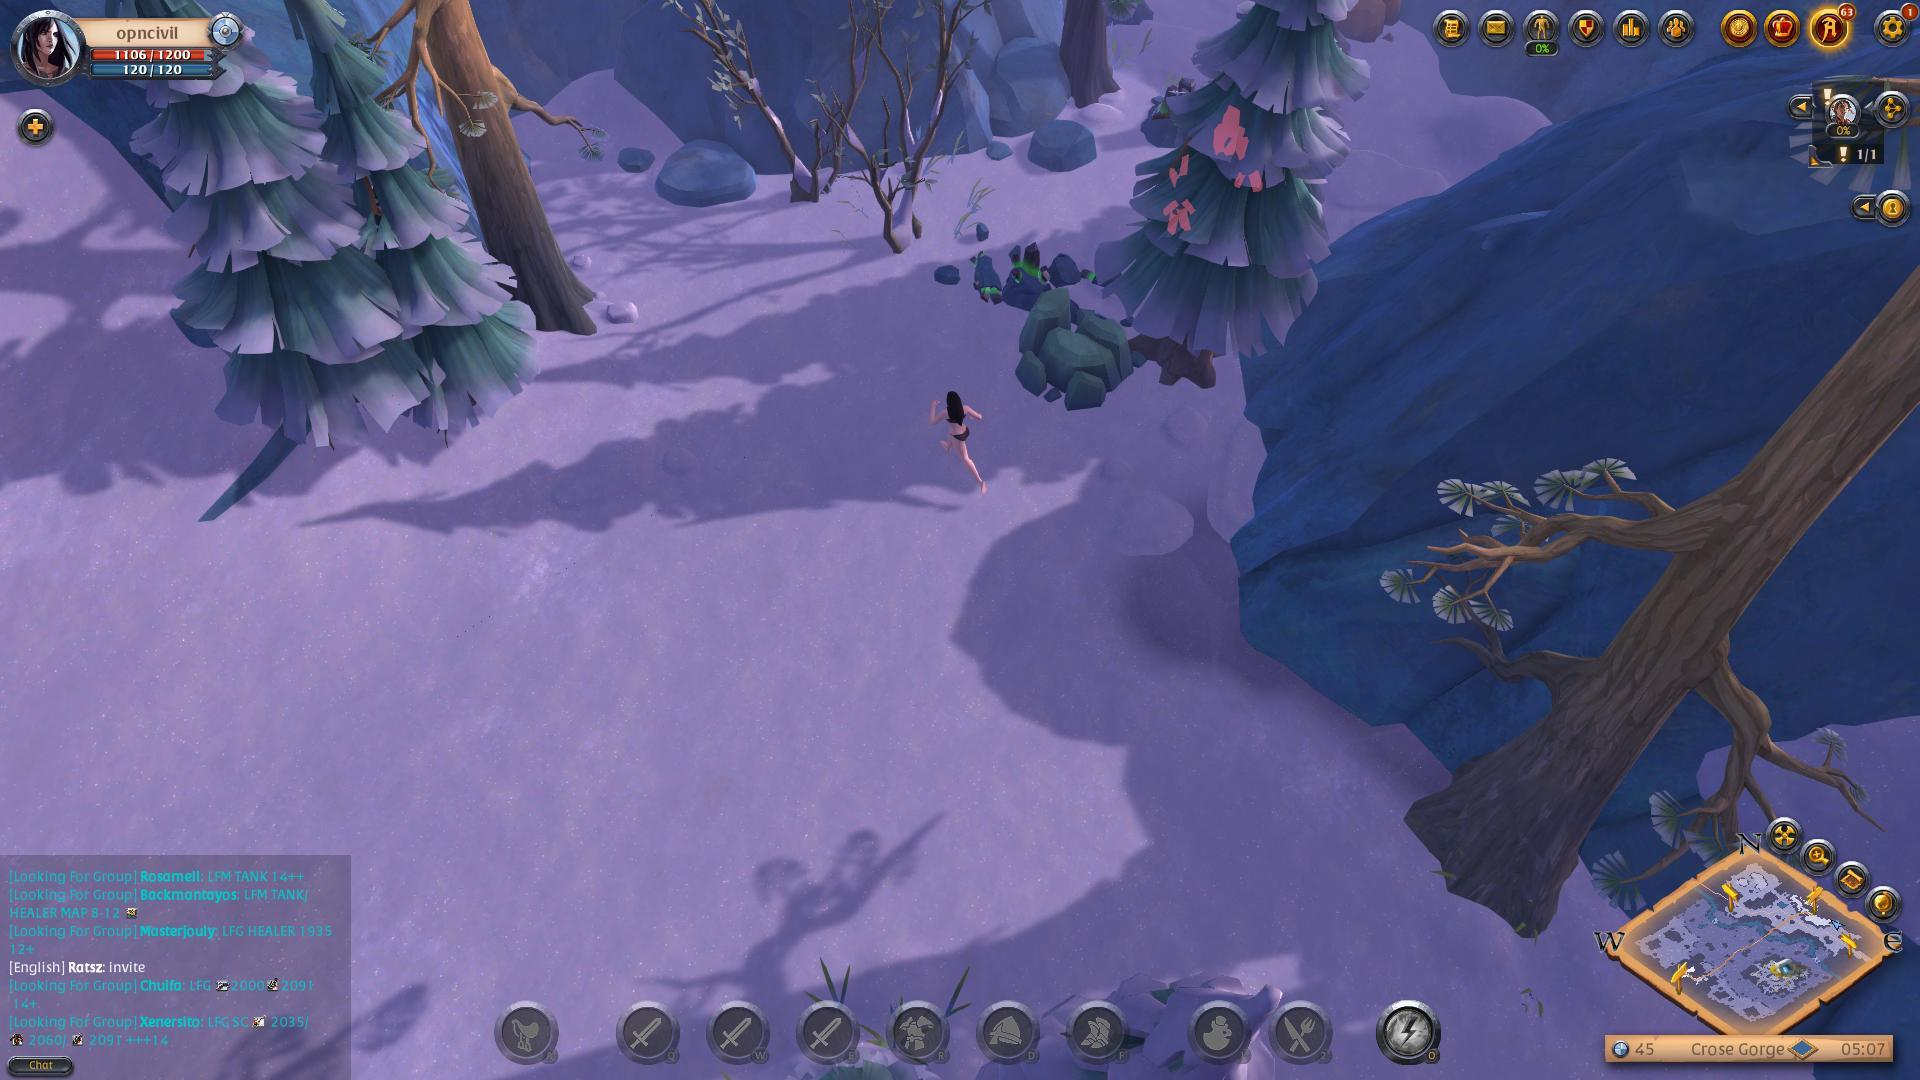sandstone: (1009, 285, 1155, 415)
